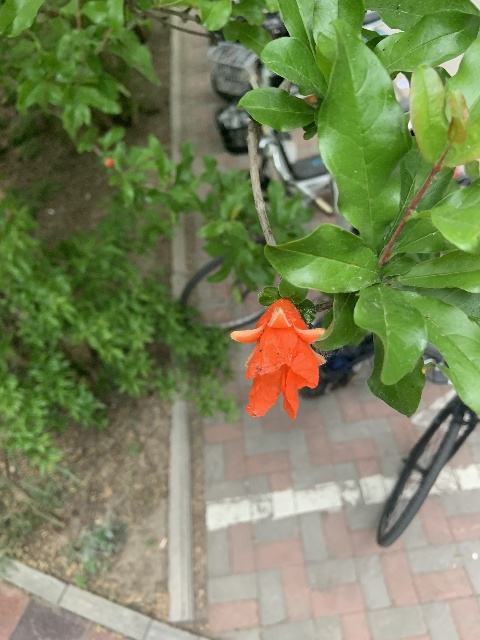flower: (229, 298, 326, 420)
